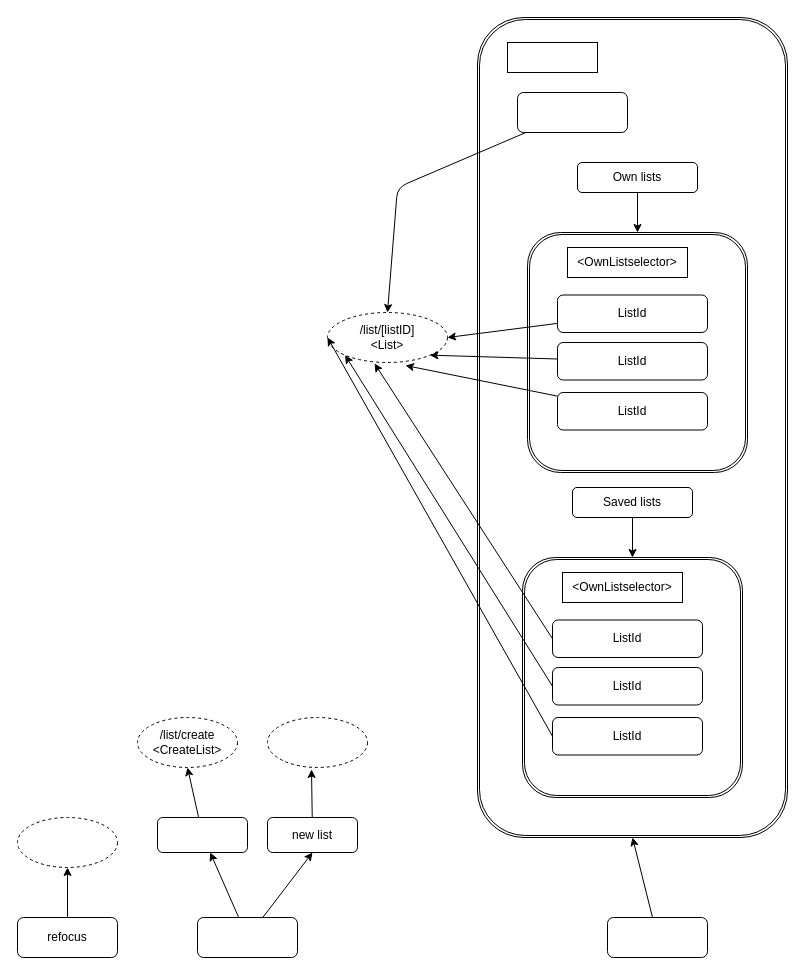
Some shapes in this 805 by 975 pixel diagram are drawn without their labels. Each missing label, with the centre of its shape:
"/ <home>" belongs at (67,842).
"/point/create <CreatePoint>" belongs at (317,742).
"<ListSelector>" belongs at (552,57).
"create +" belongs at (247,937).
"my lists" belongs at (657,937).
"my points" belongs at (572,112).
"new point" belongs at (202,834).
